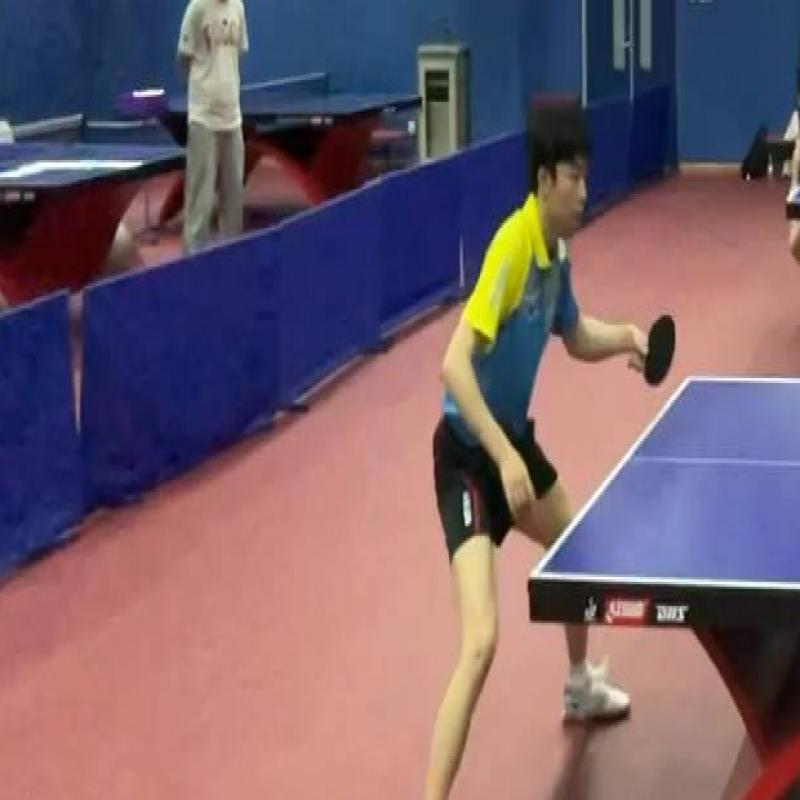bats: (634, 288, 685, 403)
